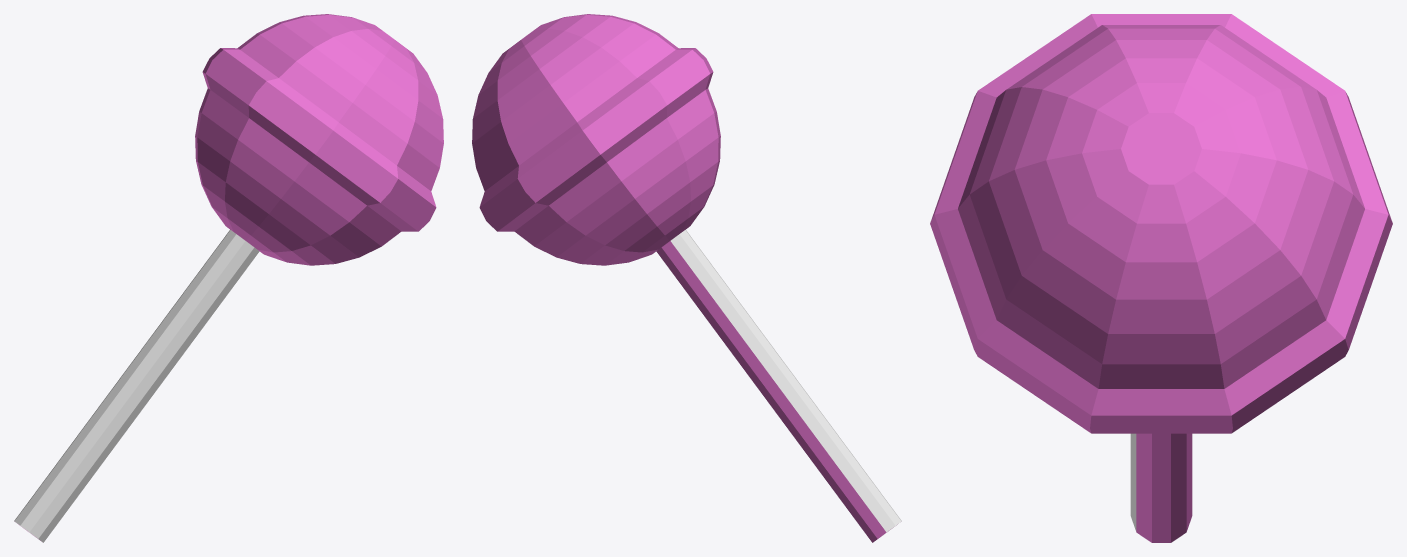
The model's file is candy.glb.
The picture shows the model from 3 angles, left to right: view 1: azimuth 30°, elevation 25°; view 2: azimuth 150°, elevation 25°; view 3: azimuth 270°, elevation 25°; orthographic projection. The views are drawn at different scales.
Visible parts, largest first — view 1: Sphere; view 2: Sphere; view 3: Sphere.
Part boxes in pixels (x1,y1,x2,y2): Sphere: [14, 14, 443, 542]; Sphere: [472, 14, 901, 542]; Sphere: [930, 14, 1392, 542].
Size of the model in its own units: 0.0396 by 0.0411 by 0.0238.
